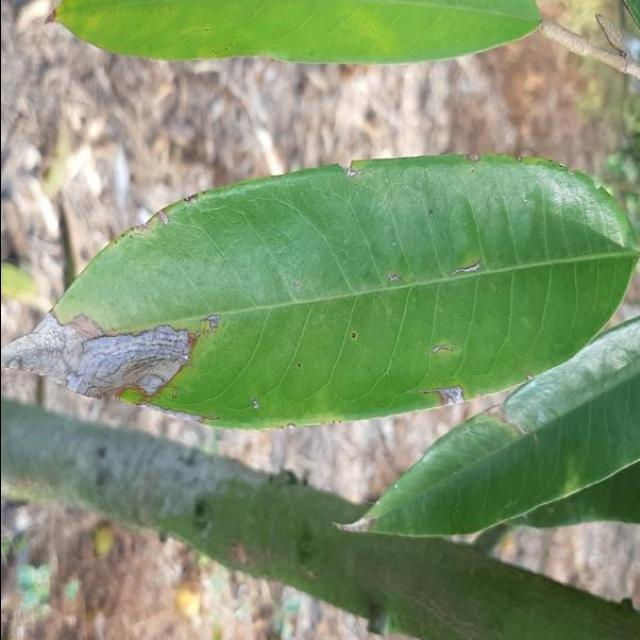Leaf Blight: (0, 143, 640, 440)
